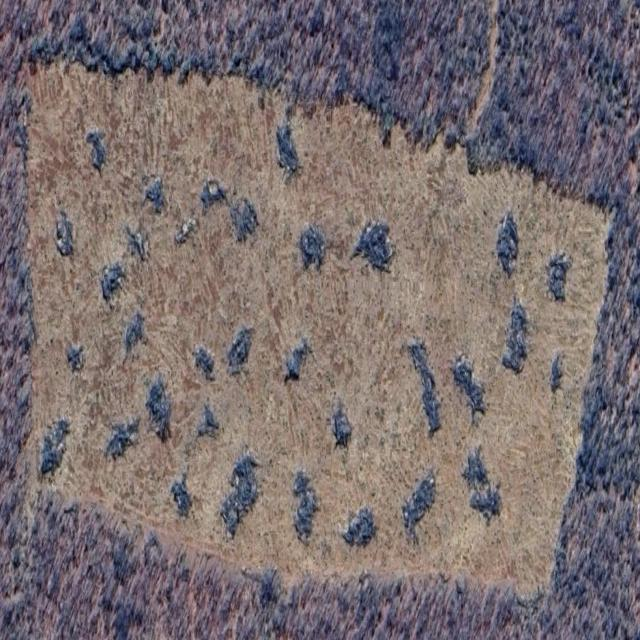boundaries: (9, 45, 624, 620), (17, 43, 51, 505)
